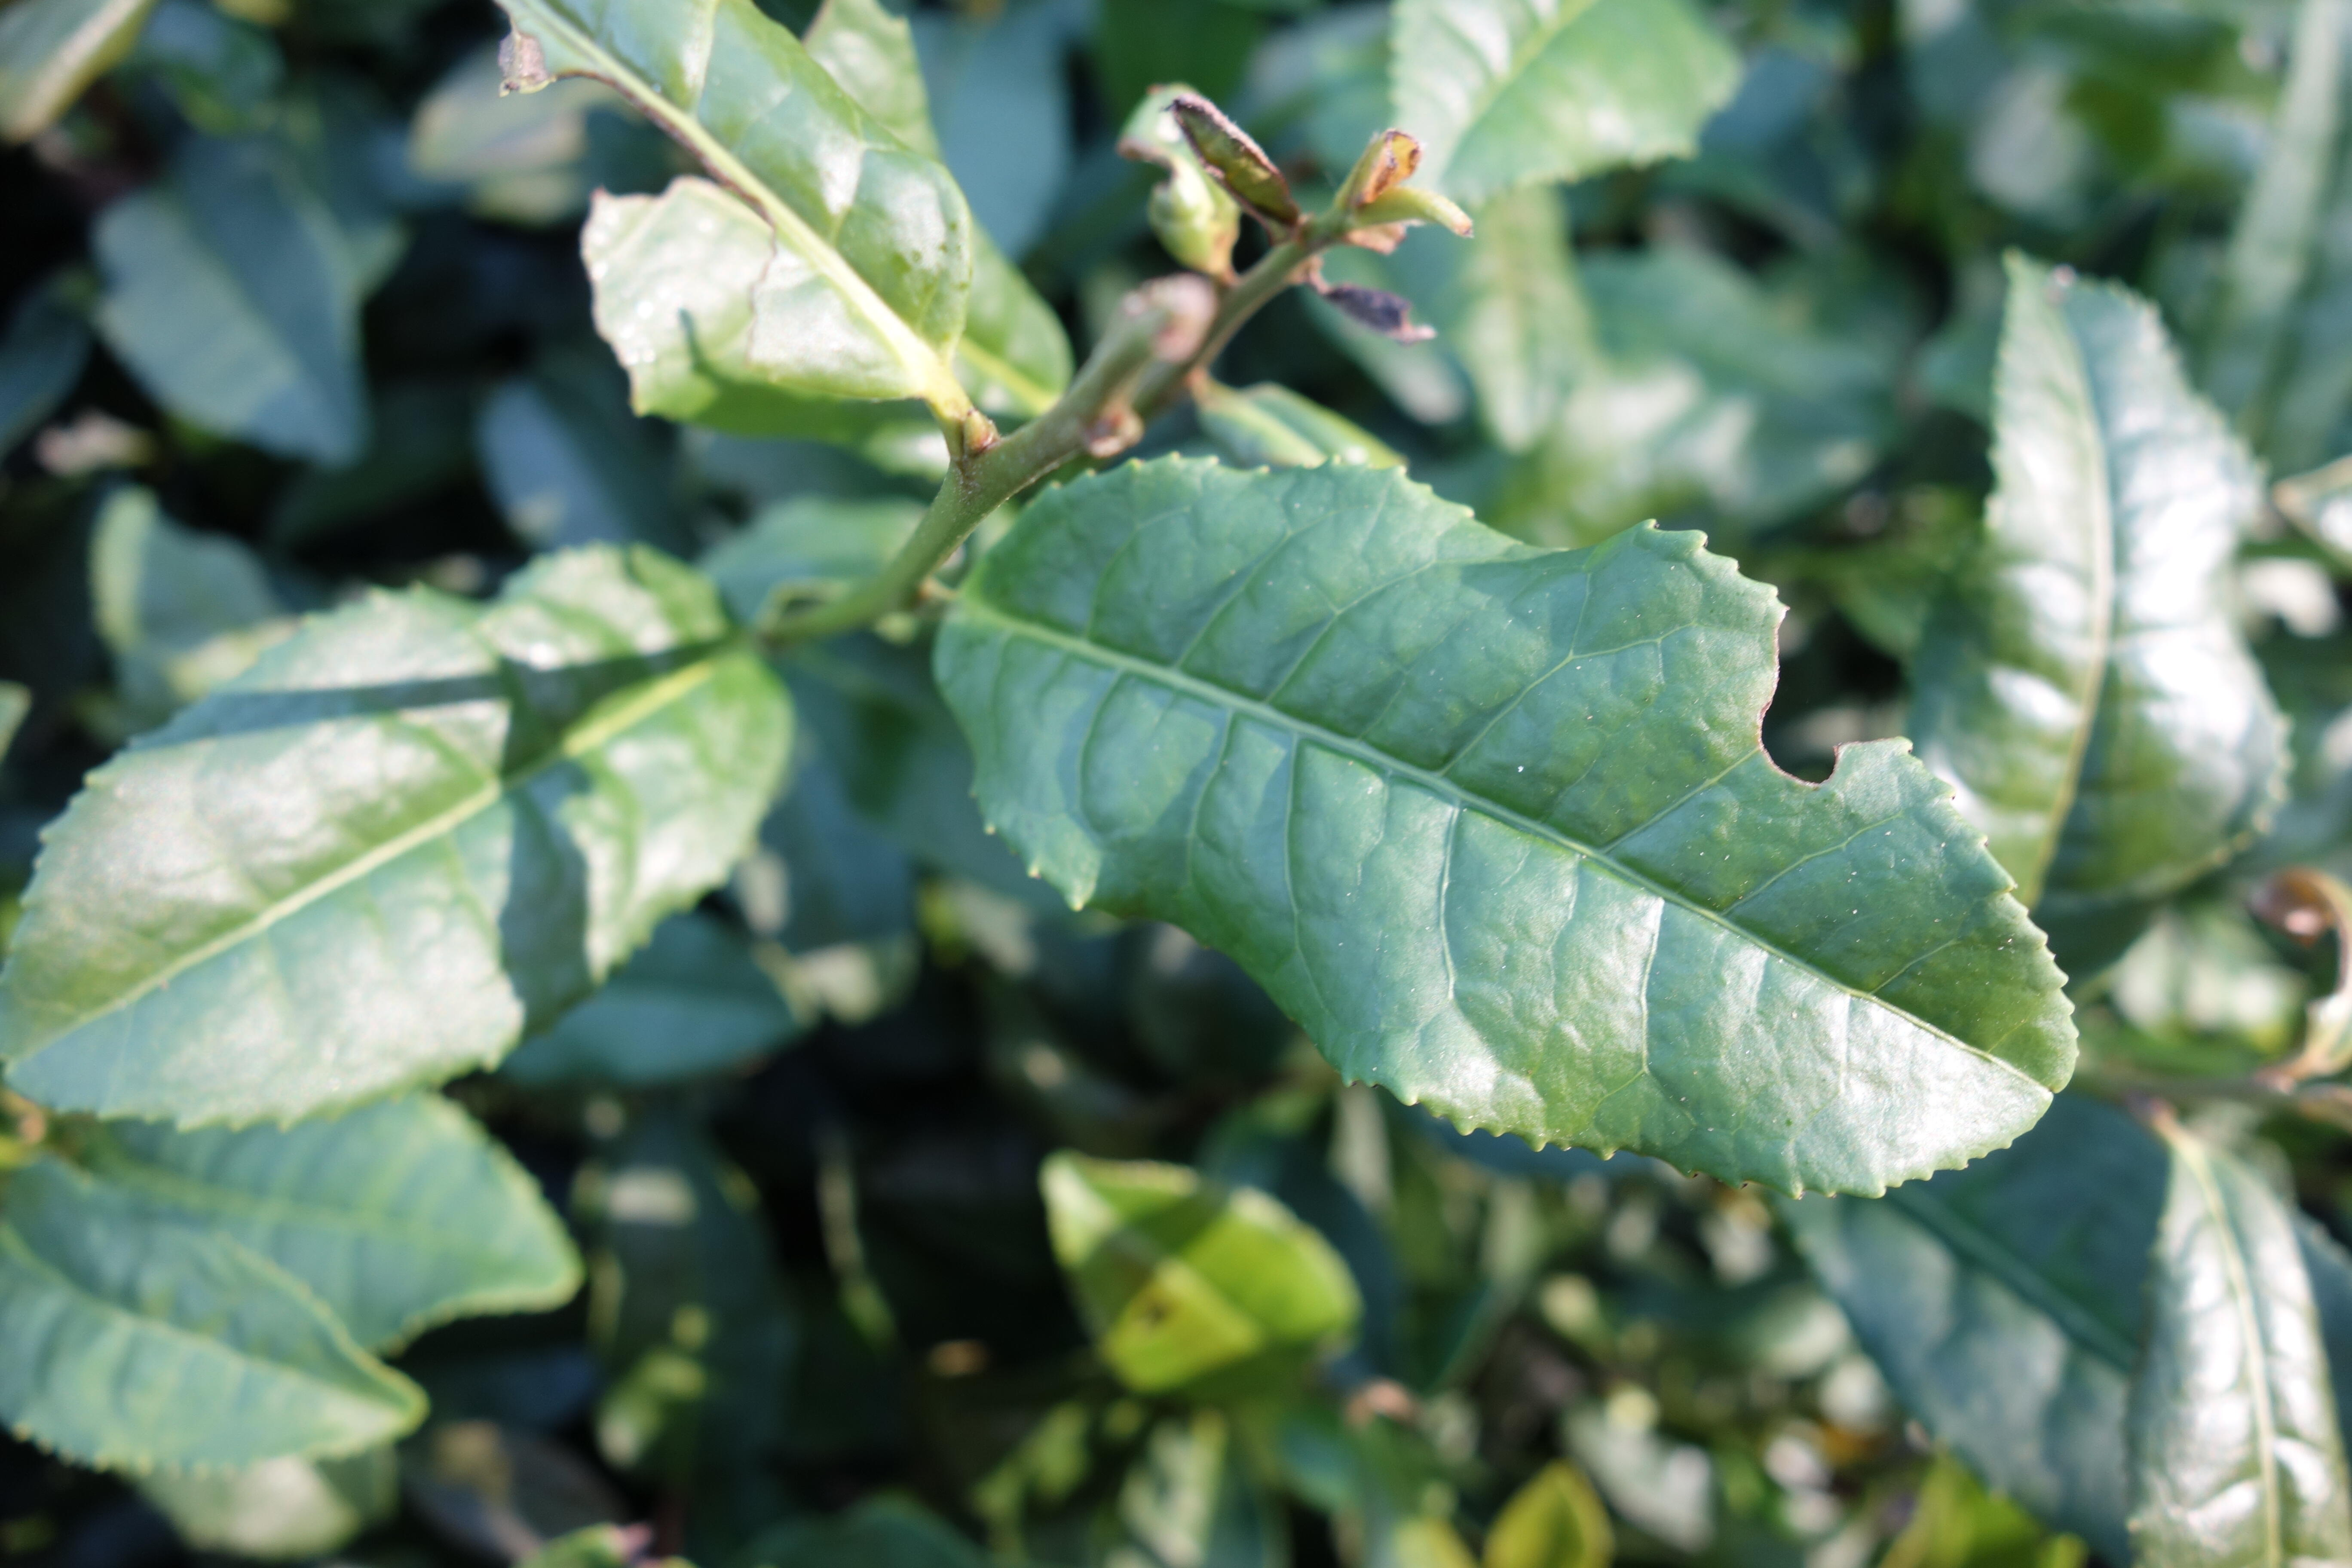chihuo_high: (492, 3, 969, 404)
chihuo_low: (927, 450, 2084, 1204)
